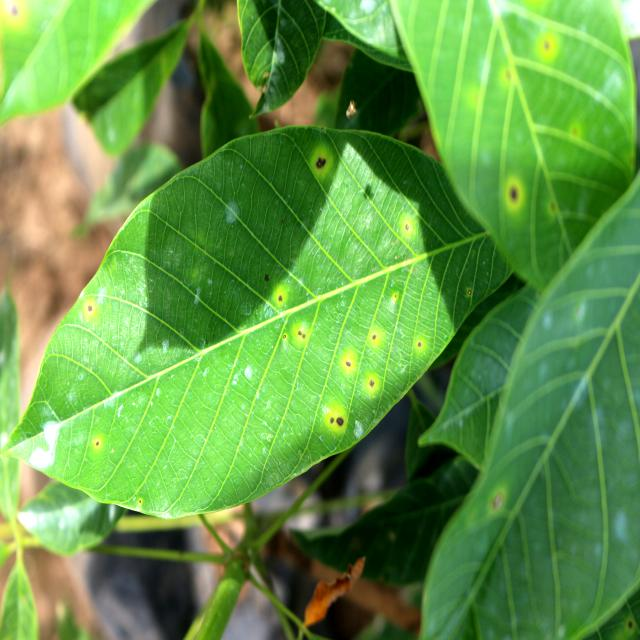Colletotrichum: (316, 158, 326, 168), (336, 417, 344, 426), (284, 335, 286, 338)
